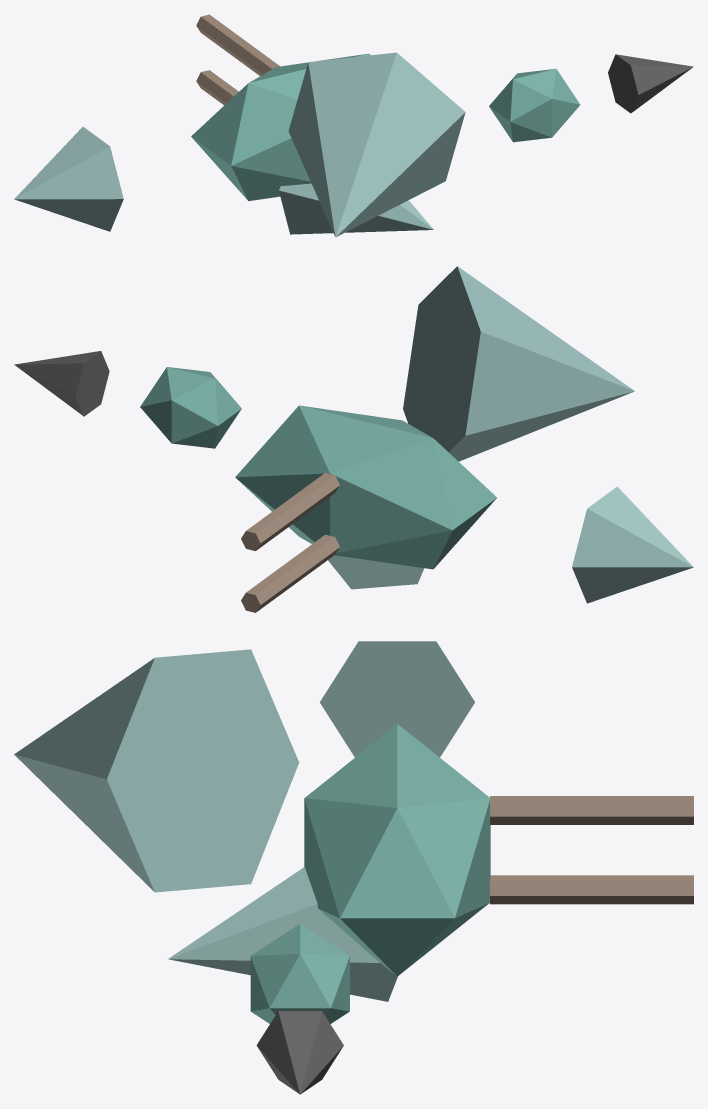
Rendered from hummingbird.glb.
The picture shows the model from 3 angles, top to bottom: view 1: azimuth 30°, elevation 25°; view 2: azimuth 150°, elevation 25°; view 3: azimuth 270°, elevation 25°; orthographic projection. The views are drawn at different scales.
Parts seen in each view (by area): view 1: world; view 2: world; view 3: world.
Part boxes in pixels (x1=…): world: x1=14, y1=14, x2=693, y2=237; world: x1=14, y1=266, x2=693, y2=612; world: x1=14, y1=641, x2=693, y2=1094.
Bounding box in the file's own units: 2.19 × 0.7599 × 1.4.
